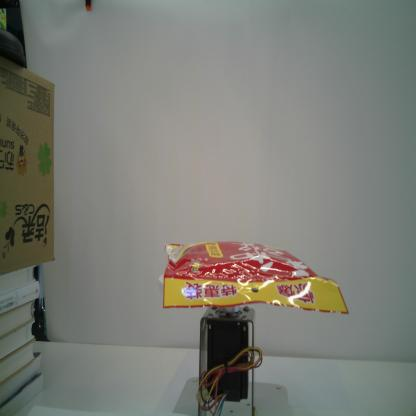Instant Drink: (159, 235, 349, 316)
